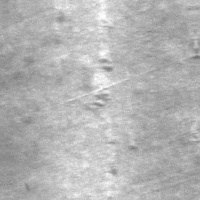rolled-in_scale: (81, 55, 138, 185)
